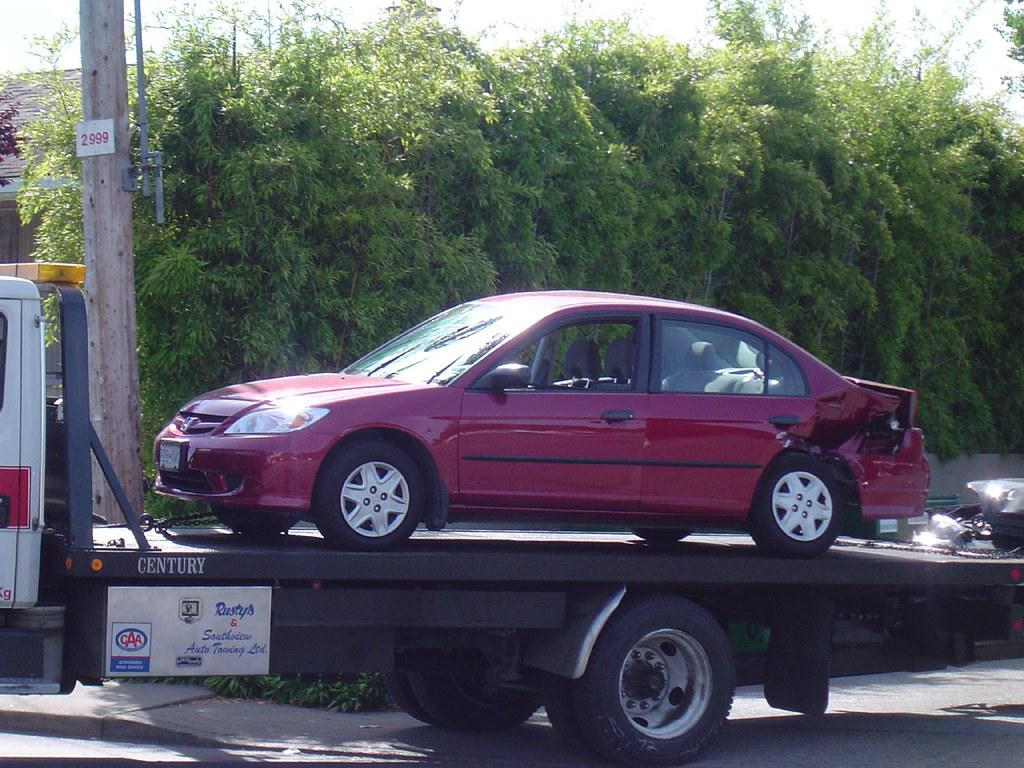quaterpanel-dent: (799, 372, 904, 456)
